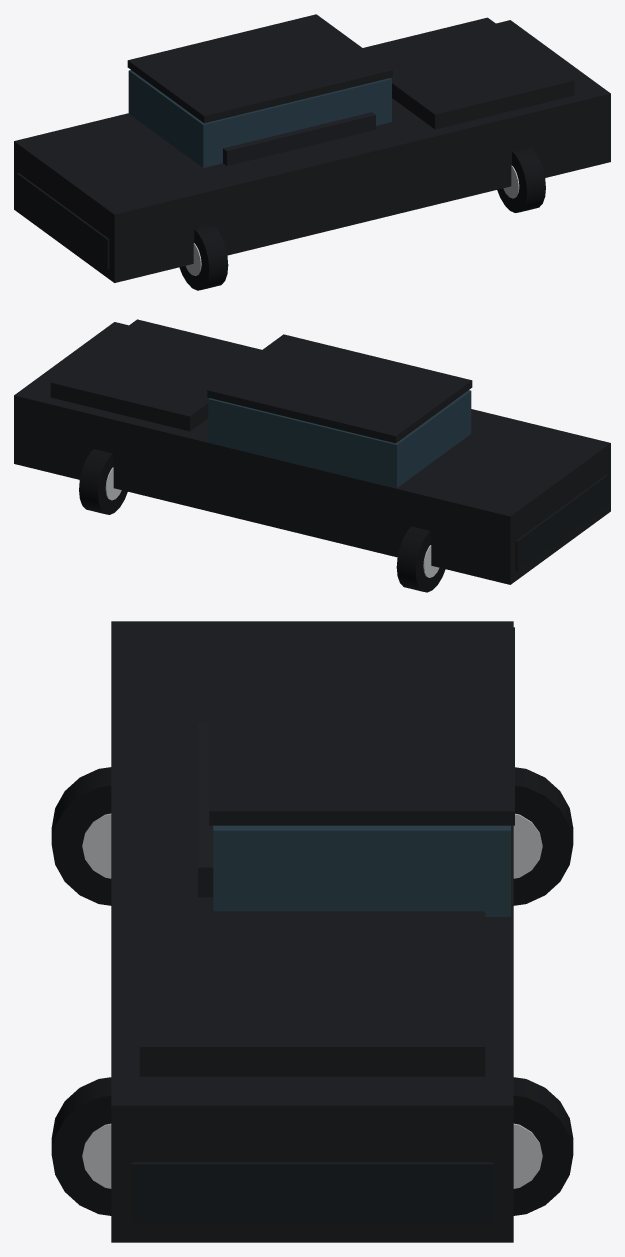
The model's file is rr_phantom_viii.glb.
3 views of the same model, one above another, from view 1: azimuth 30°, elevation 25°; view 2: azimuth 150°, elevation 25°; view 3: azimuth 270°, elevation 25° (orthographic). The views are drawn at different scales.
Visible parts, largest first — view 1: body, roof, hood, cabin, rear_bumper, interior, rear_right_wheel, front_right_wheel; view 2: body, roof, hood, cabin, rear_bumper, rear_left_wheel, front_left_wheel; view 3: body, roof, hood, cabin, front_bumper, rear_right_wheel, front_left_wheel, front_right_wheel, rear_left_wheel, interior.
Boxes of the visible parts, <box> form: body: <box>14,20,610,282</box>; roof: <box>127,14,392,123</box>; hood: <box>363,17,574,129</box>; cabin: <box>128,70,391,167</box>; rear_bumper: <box>17,173,109,269</box>; interior: <box>223,112,375,165</box>; rear_right_wheel: <box>179,224,228,290</box>; front_right_wheel: <box>497,147,545,212</box>; body: <box>14,322,610,584</box>; roof: <box>207,334,472,443</box>; hood: <box>50,319,261,431</box>; cabin: <box>208,390,471,487</box>; rear_bumper: <box>515,475,607,571</box>; rear_left_wheel: <box>396,526,445,592</box>; front_left_wheel: <box>79,449,127,514</box>; body: <box>111,621,513,1242</box>; roof: <box>209,627,514,825</box>; hood: <box>139,911,485,1076</box>; cabin: <box>213,825,510,916</box>; front_bumper: <box>131,1162,493,1223</box>; rear_right_wheel: <box>51,767,111,905</box>; front_left_wheel: <box>513,1077,573,1215</box>; front_right_wheel: <box>51,1077,111,1215</box>; rear_left_wheel: <box>513,767,573,905</box>; interior: <box>198,722,213,897</box>.
Size of the model in its own units: 5.8 by 1.63 by 2.62.
